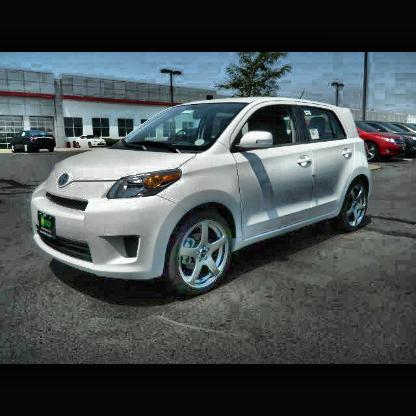Scion xD Hatchback 2012: (32, 98, 373, 299)
